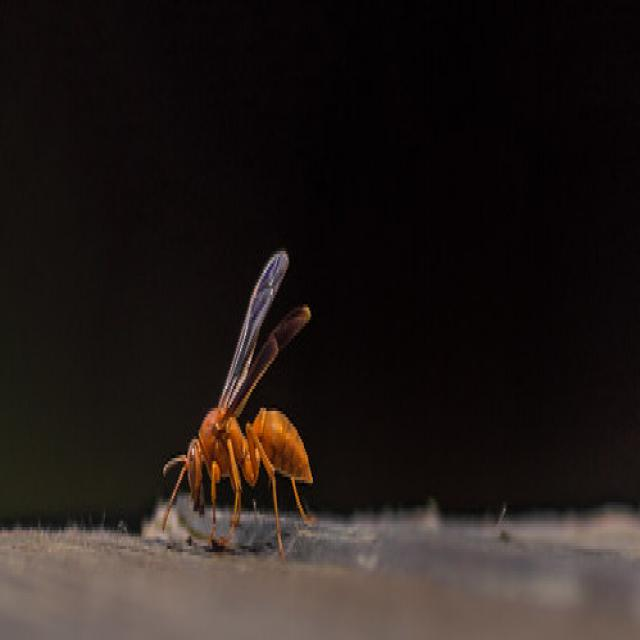Guepe: (152, 231, 337, 555)
